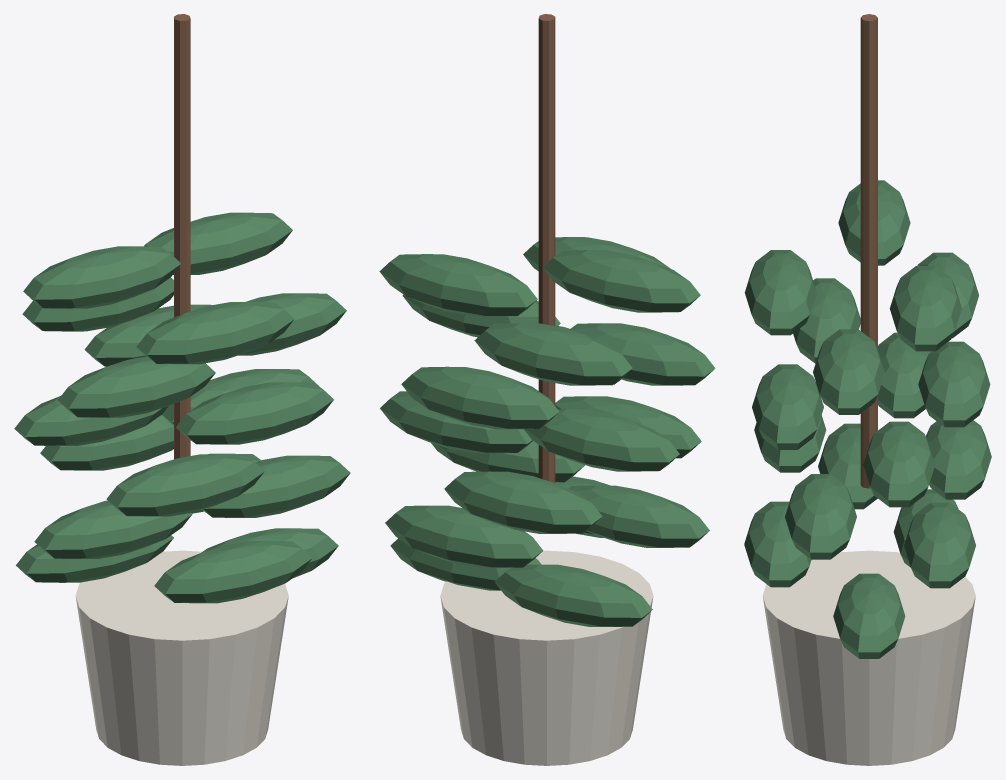
Rendered from home_plant.glb.
3 views of the same model, side by side, from view 1: azimuth 30°, elevation 25°; view 2: azimuth 150°, elevation 25°; view 3: azimuth 270°, elevation 25° (orthographic).
Parts seen in each view (by area): view 1: plant; view 2: plant; view 3: plant.
Part boxes in pixels (x1,y1,x2,y2): plant: (14,14,350,765); plant: (379,14,715,765); plant: (744,14,991,765).
Size of the model in its own units: 1.01 by 2.28 by 0.7205.
